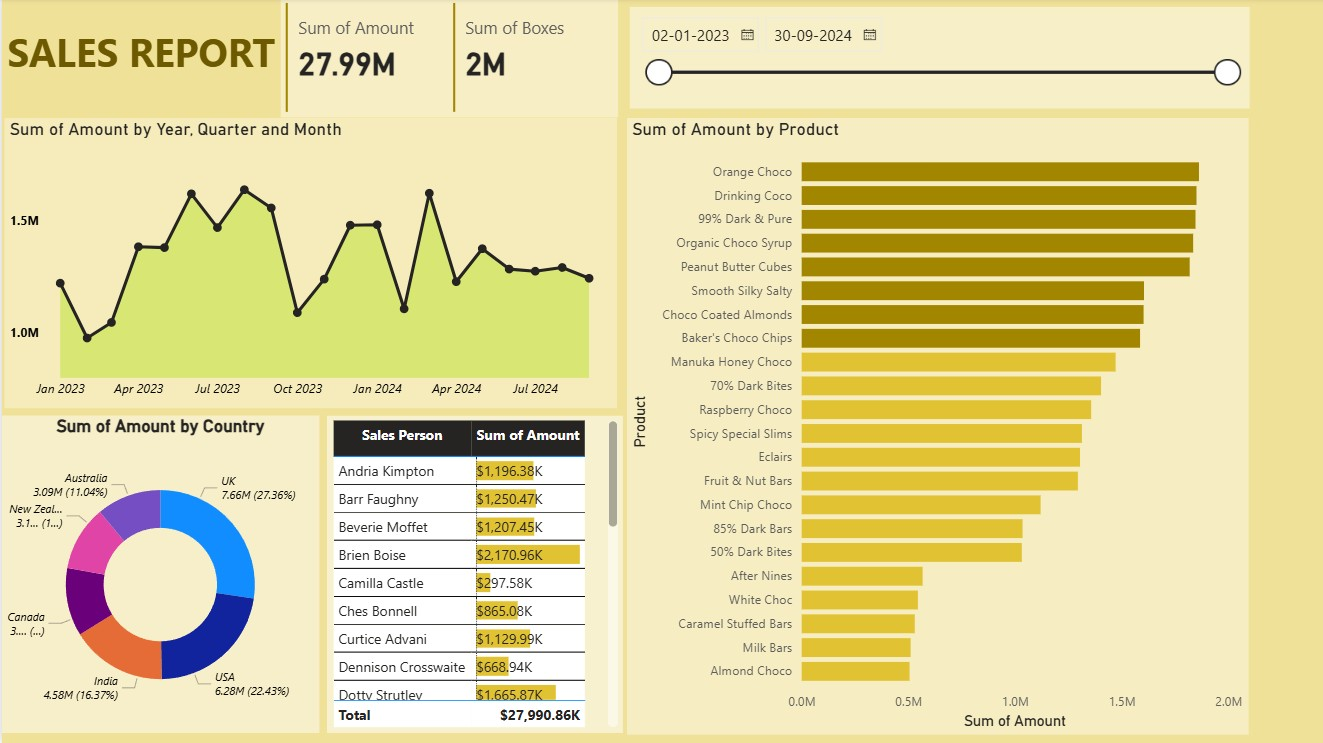

The dashboard page shown, as its layout file describes it:
{"tool":"powerbi","page":{"name":"Page 2","canvas":[1280,720],"ordinal":1},"visuals":[{"type":"lineChart","fields":{"Category":["data.Date.Variation.Date Hierarchy.Year","data.Date.Variation.Date Hierarchy.Quarter","data.Date.Variation.Date Hierarchy.Month","data.Date.Variation.Date Hierarchy.Day"],"Y":["Sum(data.Amount)"]},"box":[2.7,115.3,591.4,279.9],"z":0},{"type":"donutChart","fields":{"Category":["data.Country"],"Y":["Sum(data.Amount)"]},"box":[0,403.4,306,306],"z":1000},{"type":"tableEx","fields":{"Values":["data.Sales Person","Sum(data.Amount)"]},"box":[314.2,403.4,285.4,306],"z":2000},{"type":"clusteredBarChart","fields":{"Category":["data.Product"],"Y":["Sum(data.Amount)"]},"box":[603.8,115.3,599.7,595.5],"z":3000},{"type":"cardVisual","fields":{"Data":["Sum(data.Amount)","Sum(data.Boxes)"]},"box":[269,0,325.2,115.3],"z":4000},{"type":"slicer","fields":{"Values":["data.Date"]},"box":[605.1,8.2,598.3,98.8],"z":5000},{"type":"textbox","box":[0,22,269,85.1],"z":6000}]}

Visuals, with their boxes in screenshot pixels (x1, y1, x2, y2), scaled from the page's 1280x720 canvas onto the 1323x743 screenshot:
lineChart - data.Date.Variation.Date Hierarchy.Year x data.Date.Variation.Date Hierarchy.Quarter: (left=3, top=119, right=614, bottom=408)
donutChart - data.Country x Sum(data.Amount): (left=0, top=416, right=316, bottom=732)
tableEx - data.Sales Person x Sum(data.Amount): (left=325, top=416, right=620, bottom=732)
clusteredBarChart - data.Product x Sum(data.Amount): (left=624, top=119, right=1244, bottom=734)
cardVisual - Sum(data.Amount) x Sum(data.Boxes): (left=278, top=0, right=614, bottom=119)
slicer - data.Date: (left=625, top=8, right=1244, bottom=110)
textbox: (left=0, top=23, right=278, bottom=111)
